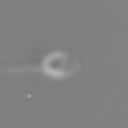normal: (1, 53, 42, 80)
